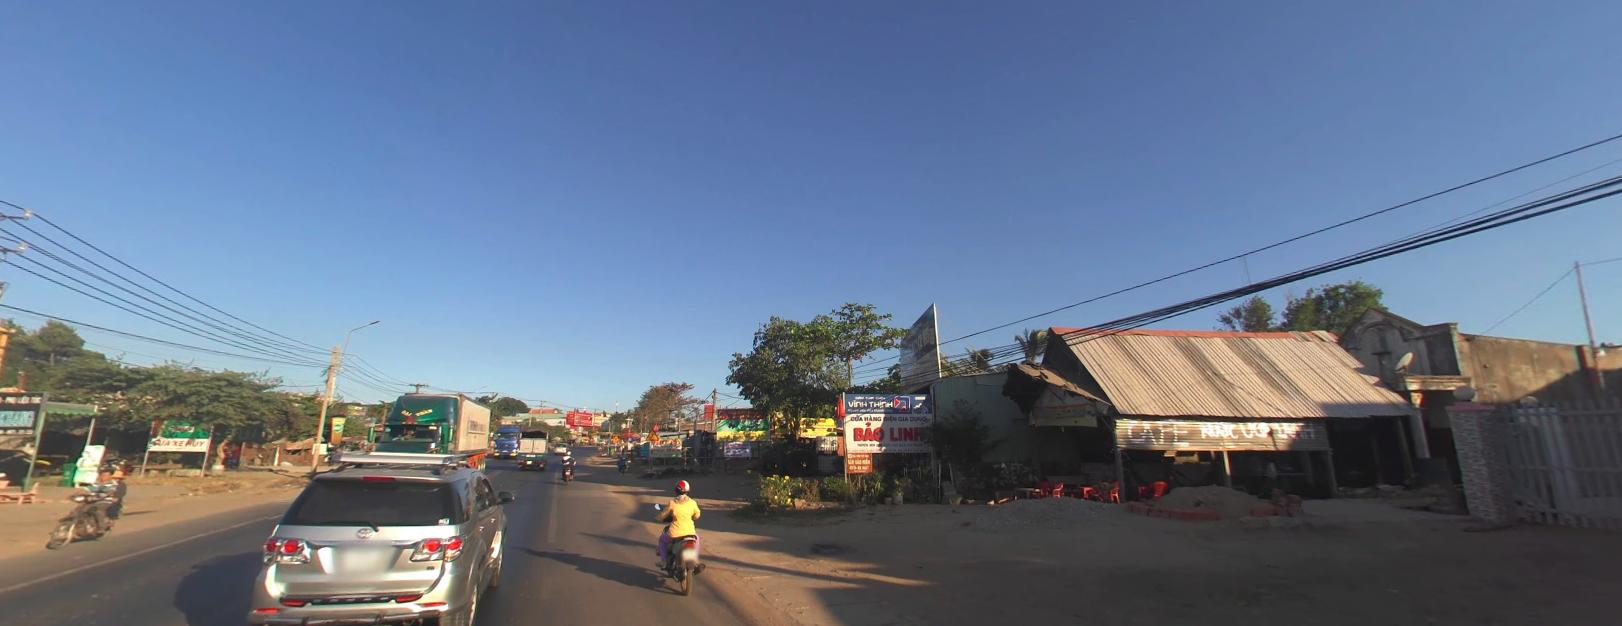Nguy hiem: (645, 427, 658, 438)
